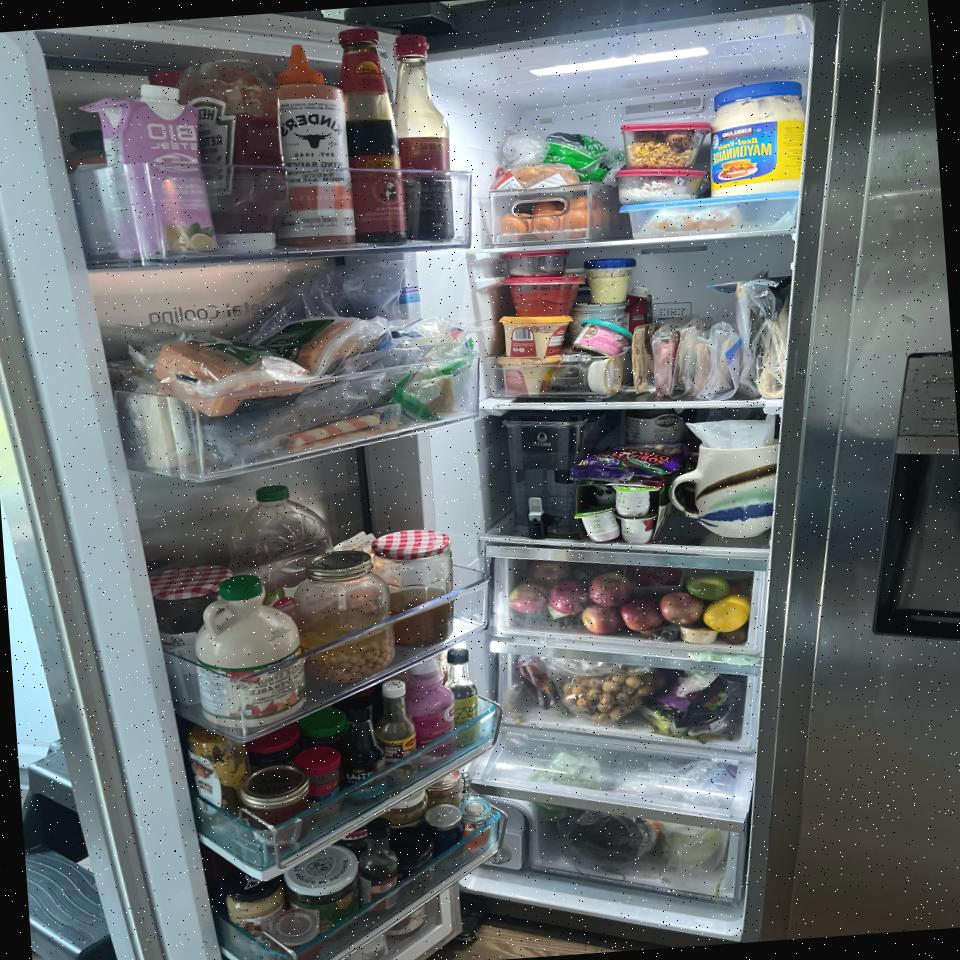Huevos: (497, 194, 620, 243)
Limón: (702, 594, 753, 633)
Manzana: (660, 590, 704, 627), (588, 573, 633, 606), (548, 579, 588, 616), (621, 598, 660, 632), (508, 583, 547, 615), (581, 605, 621, 636), (530, 560, 568, 584)
Queso: (152, 334, 303, 420), (258, 316, 364, 376)
